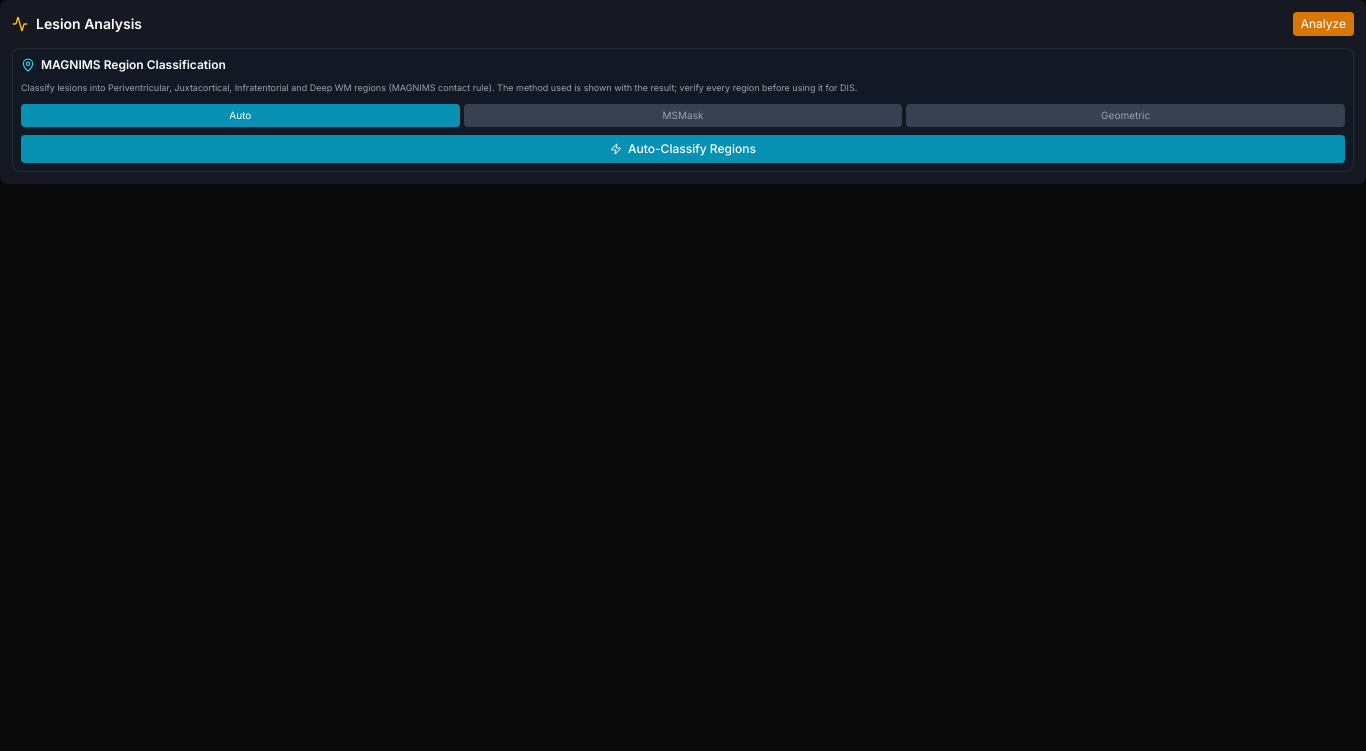
it: m-1: the DIS card names lesions as the lesion table does › rc071 review3 a correction of a small component says so
The width and height of the screenshot is (1366, 751).
Click the button "Analyze". click: click(1323, 24)
box: [1293,12,1354,36]
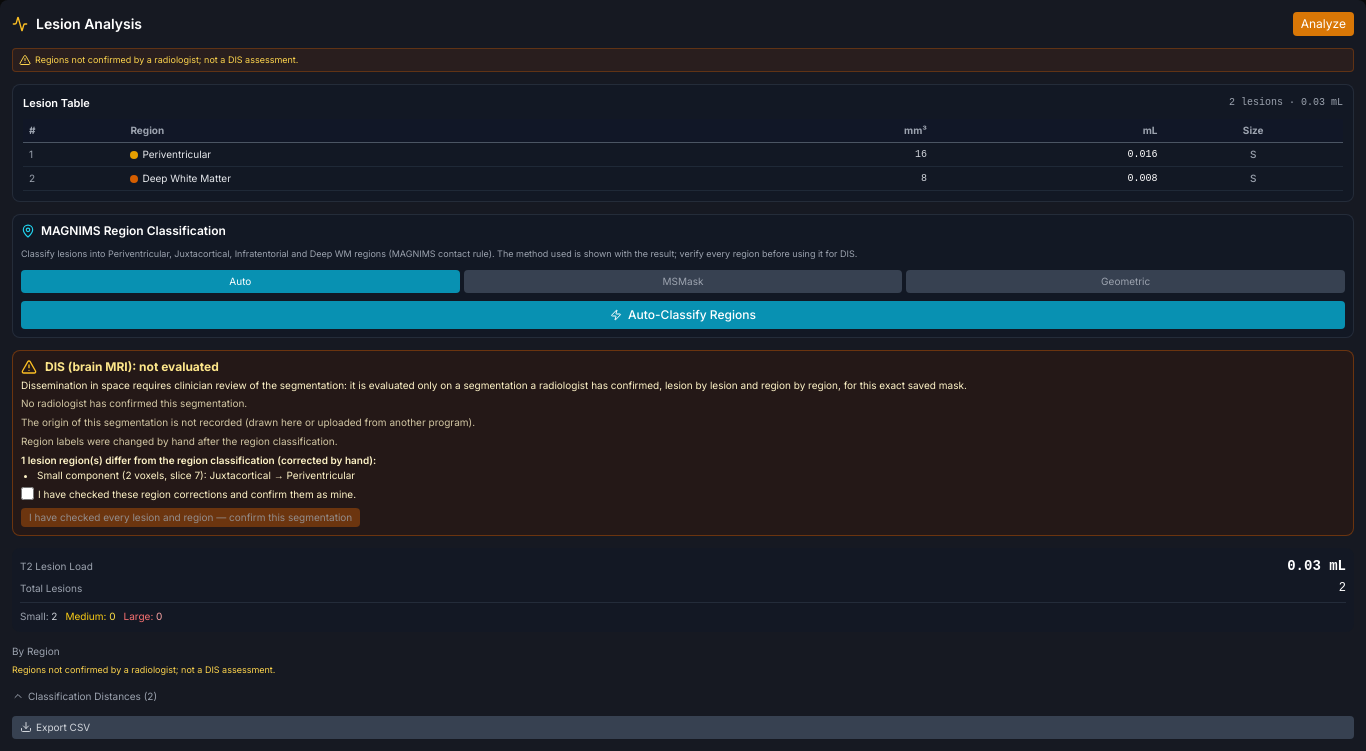
Expected: the list item with test id "dis-region-correction" reads "Small component (2 voxels, slice 7): Juxtacortical → Periventricular", [37,469,355,481]
